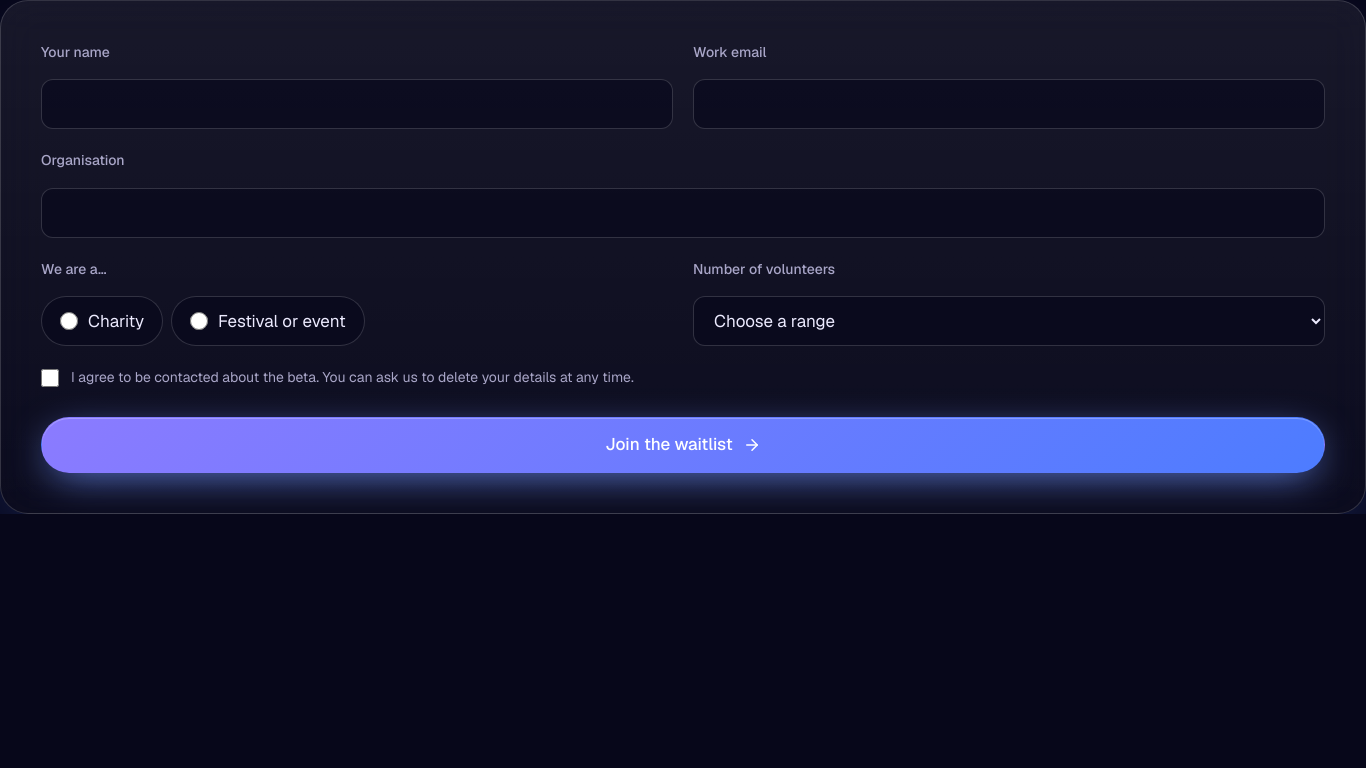
Test: WaitlistForm › handles a network failure
Type "Mari Tamm" into the field labelled "Your name" at [357, 104], box [41,79,673,129]
Type "mari@example.org" into the field labelled "Work email" at [1009, 104], box [693,79,1325,129]
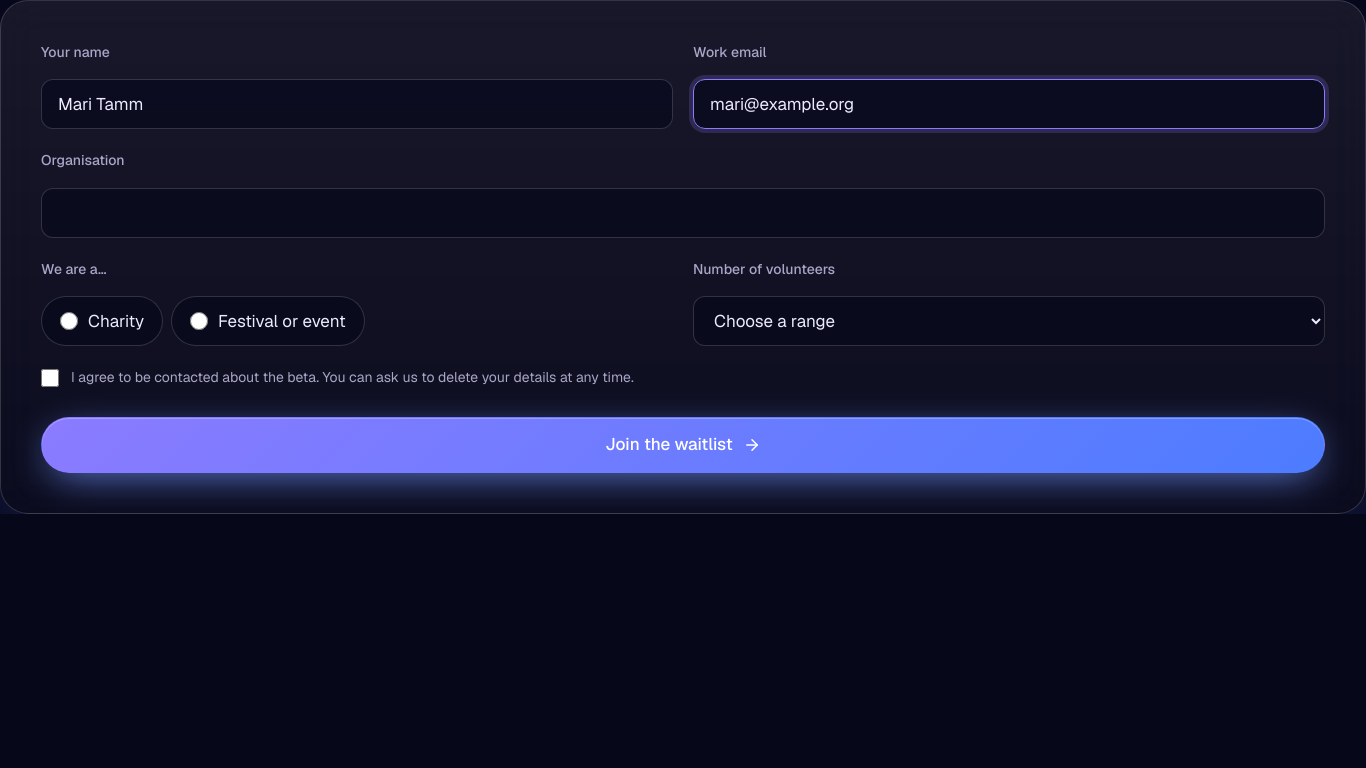
Type "Harbour Food Bank" into the field labelled "Organisation" at [683, 213], box [41,188,1325,238]
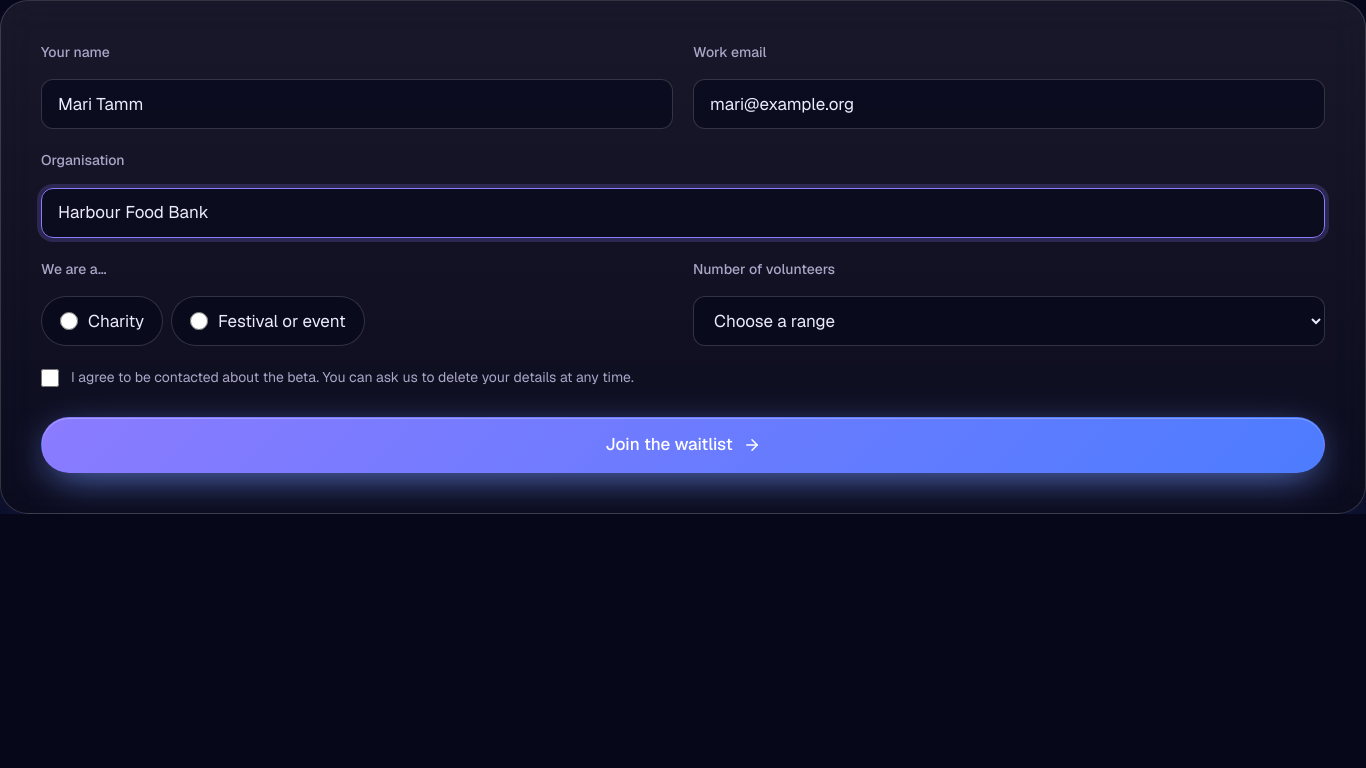
Click the radio button labelled "Charity" at [69, 321], box [60,312,78,330]
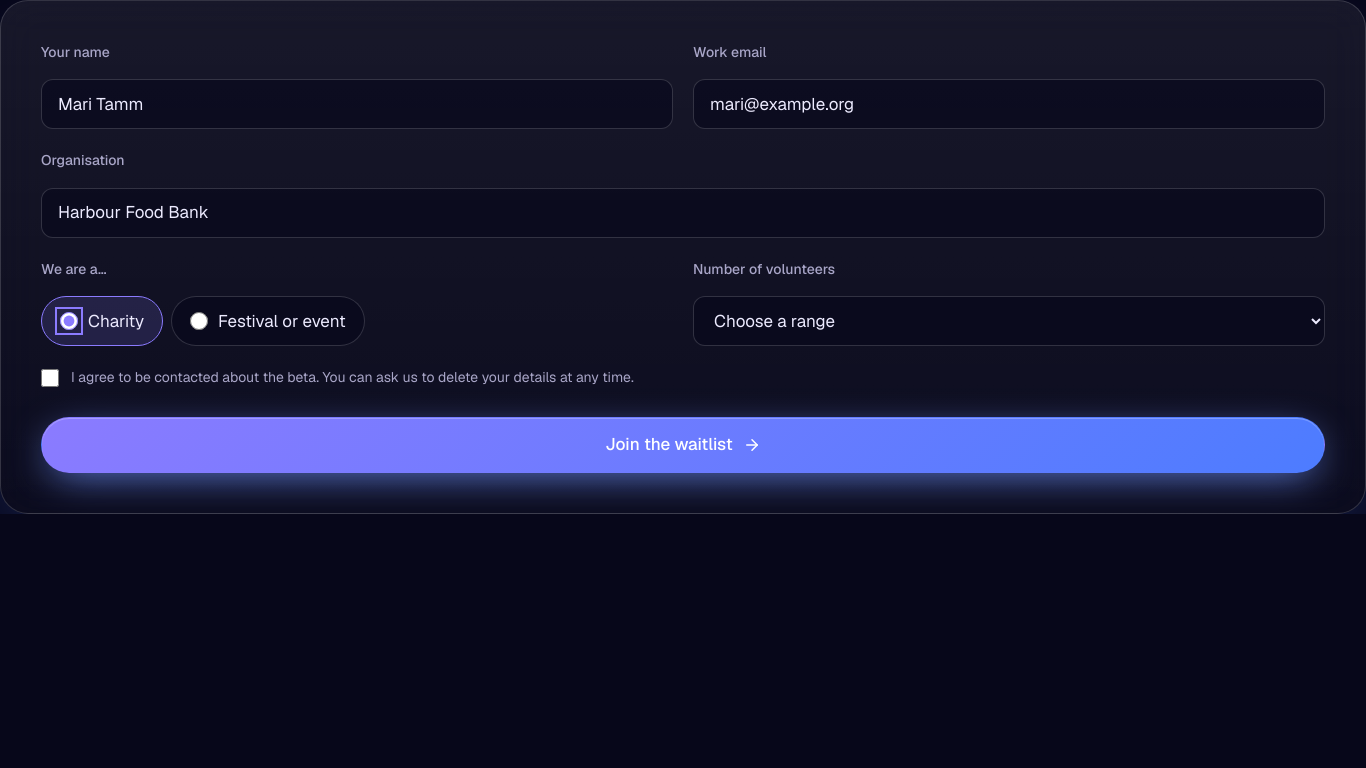
Select "26–100" in the dropdown labelled "Number of volunteers" at [1009, 321], box [693,296,1325,346]
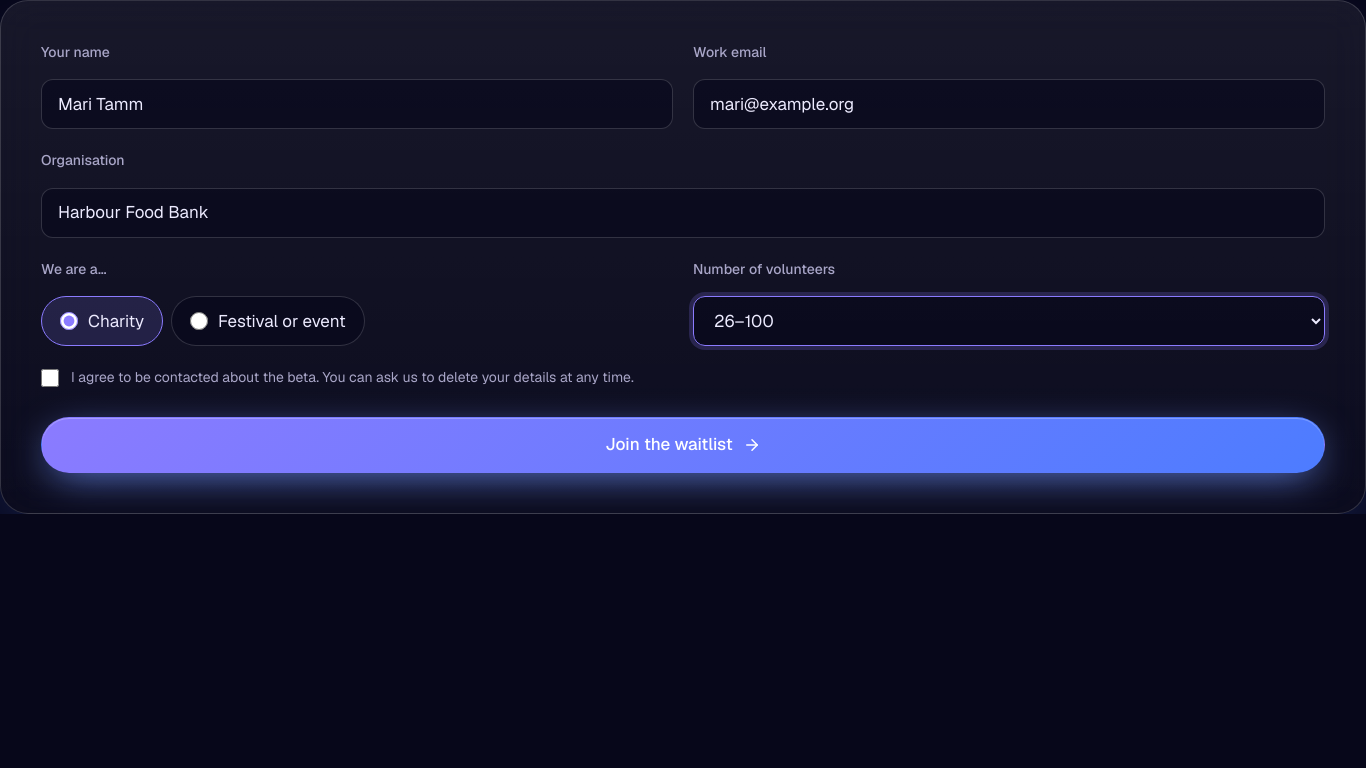
Click the checkbox at [50, 378], box [41,369,59,387]
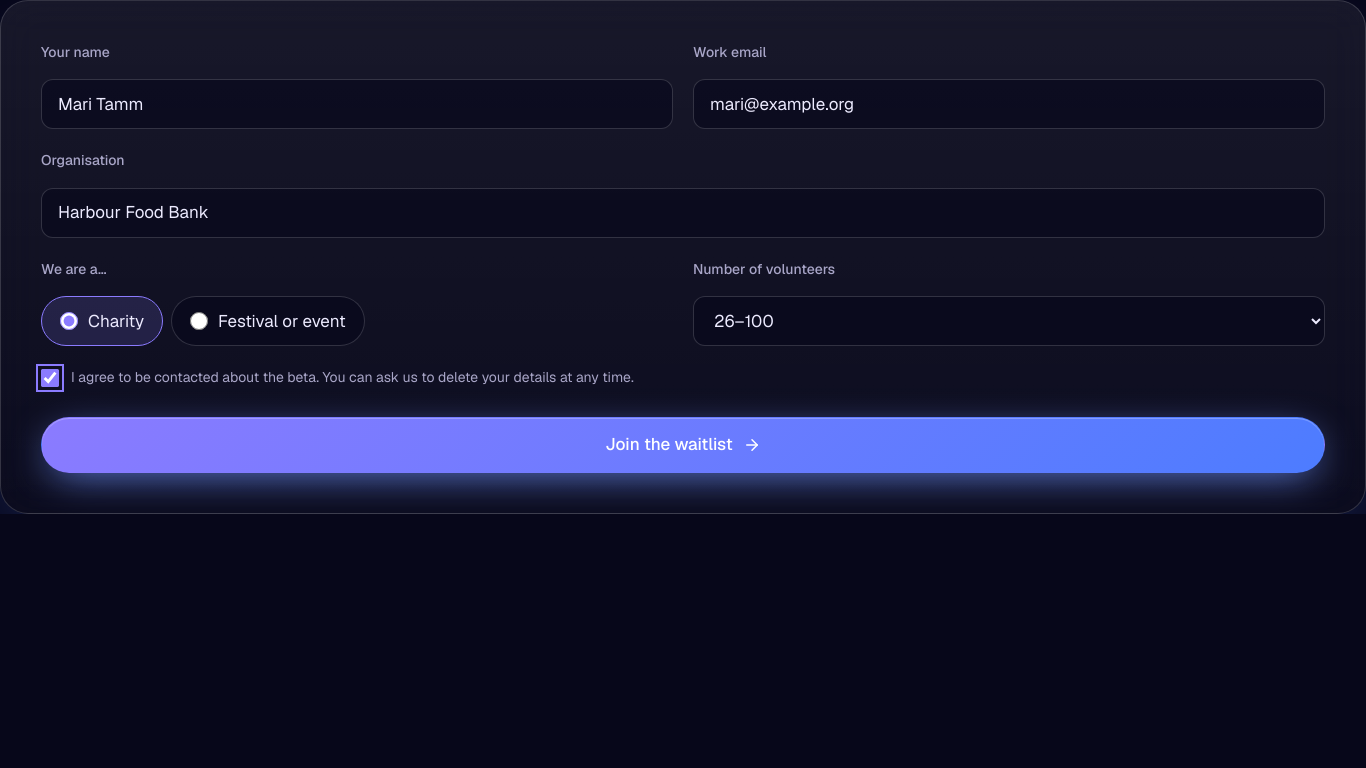
Click the button "Join the waitlist" at [683, 445], box [41,417,1325,473]
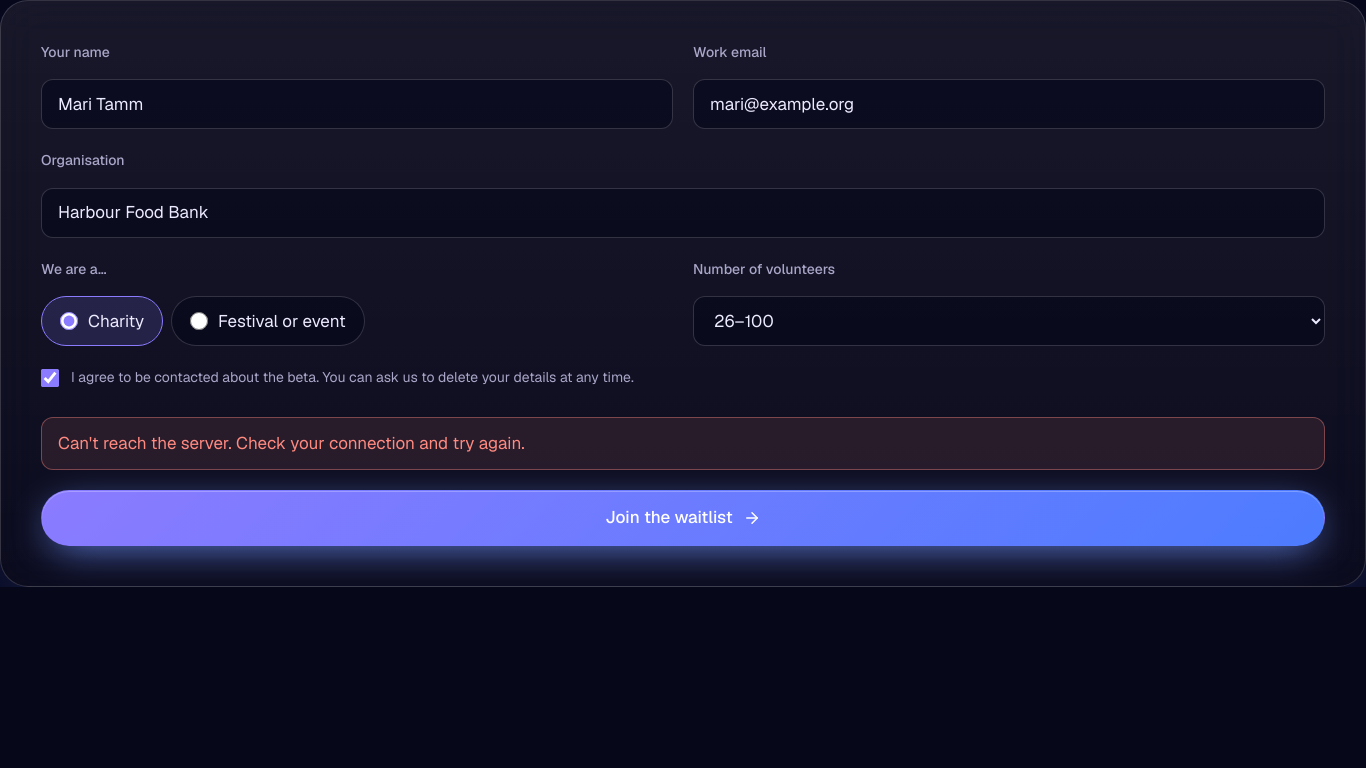
Expected: the message shows "Can't reach the server", [58,432,525,454]
